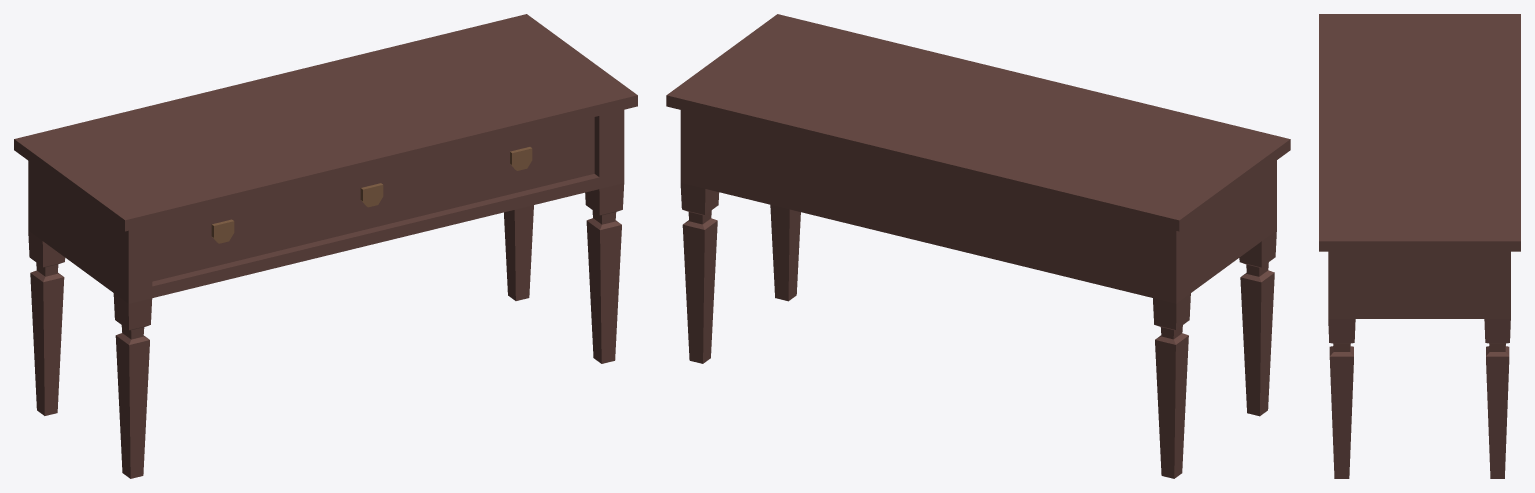
Rendered from mesa.fbx.
The picture shows the model from 3 angles, left to right: view 1: azimuth 30°, elevation 25°; view 2: azimuth 150°, elevation 25°; view 3: azimuth 270°, elevation 25°; orthographic projection. The views are drawn at different scales.
Visible parts, largest first — view 1: Mesa; view 2: Mesa; view 3: Mesa.
Part boxes in pixels (left/top/right/bottom): Mesa: left=14, top=14, right=637, bottom=478; Mesa: left=666, top=14, right=1290, bottom=478; Mesa: left=1319, top=14, right=1520, bottom=478.
Bounding box in the file's own units: 160 × 80 × 60.
